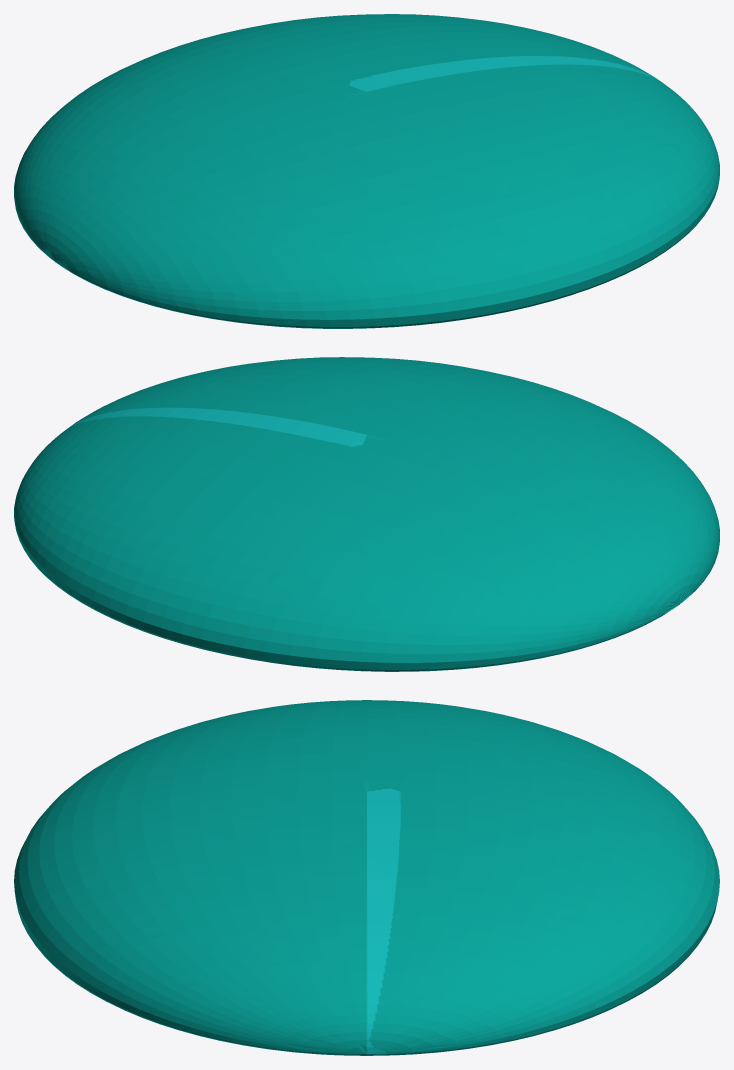
Rendered from december.glb.
3 renders of one model, top to bottom at view 1: azimuth 30°, elevation 25°; view 2: azimuth 150°, elevation 25°; view 3: azimuth 270°, elevation 25°, orthographic. The views are drawn at different scales.
Parts seen in each view (by area): view 1: turquoise; view 2: turquoise; view 3: turquoise.
Boxes of the visible parts, left/top/right/bottom form: turquoise: left=14, top=14, right=719, bottom=328; turquoise: left=14, top=357, right=719, bottom=671; turquoise: left=14, top=700, right=719, bottom=1055.
Size of the model in its own units: 1295 by 230 by 1185.
Materials: 1 (1 with a texture image).
